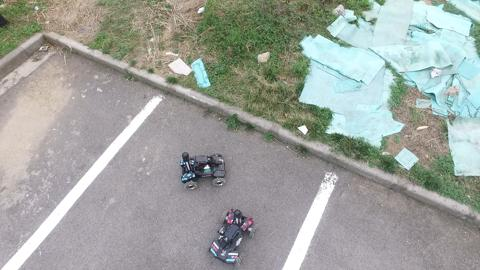chariot: (202, 205, 260, 267), (173, 148, 234, 195)
